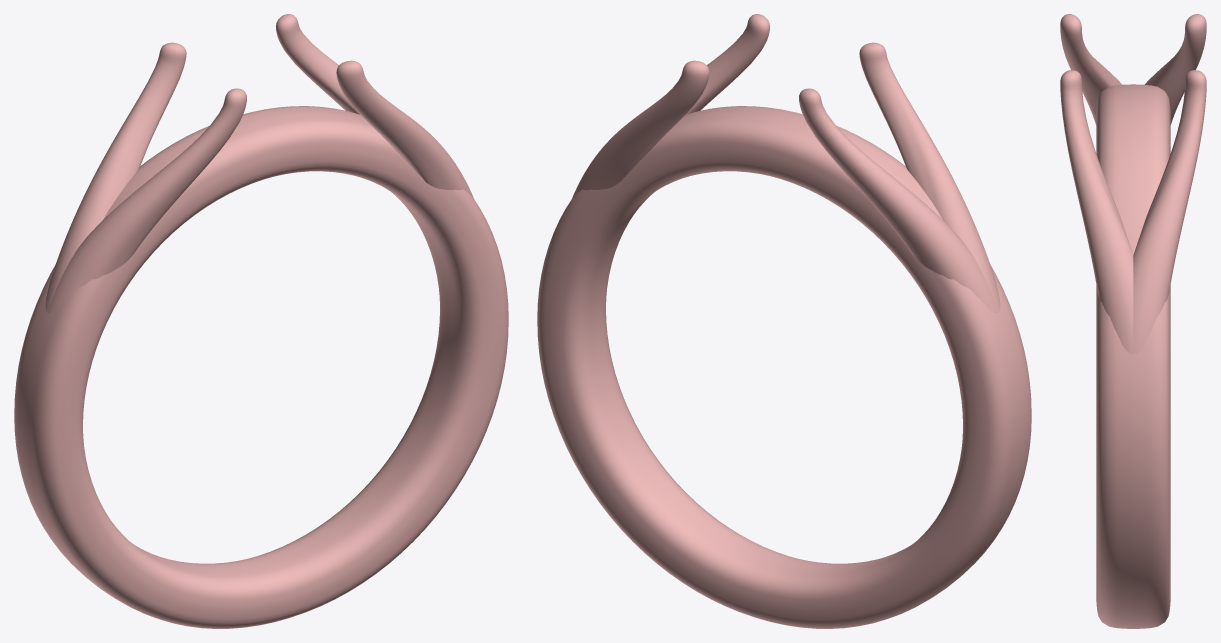
File: SPLIT.glb
3 renders of one model, left to right at view 1: azimuth 30°, elevation 25°; view 2: azimuth 150°, elevation 25°; view 3: azimuth 270°, elevation 25°, orthographic.
Visible parts, largest first — view 1: plain; view 2: plain; view 3: plain.
Part boxes in pixels (<box>): plain: <box>14,14,508,628</box>; plain: <box>537,14,1031,628</box>; plain: <box>1060,14,1206,628</box>.
Bounding box in the file's own units: 16.14 × 18.31 × 4.34.
